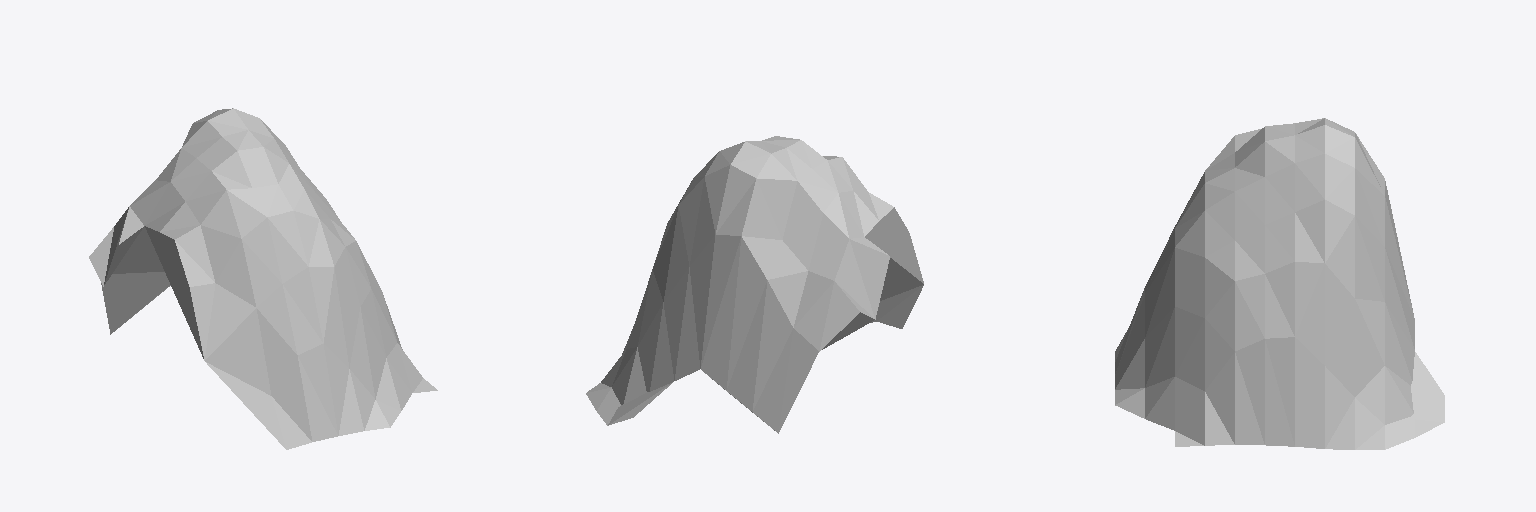
The model's file is tree_49.obj.
3 views of the same model, side by side, from view 1: azimuth 30°, elevation 25°; view 2: azimuth 150°, elevation 25°; view 3: azimuth 270°, elevation 25° (orthographic).
Visible parts, largest first — view 1: tree_49; view 2: tree_49; view 3: tree_49.
Boxes of the visible parts, box(x1,y1,x2,y2) form: tree_49: box(89, 108, 437, 449); tree_49: box(586, 136, 923, 433); tree_49: box(1115, 118, 1444, 449).
Bounding box in the file's own units: 10 × 9.65 × 11.